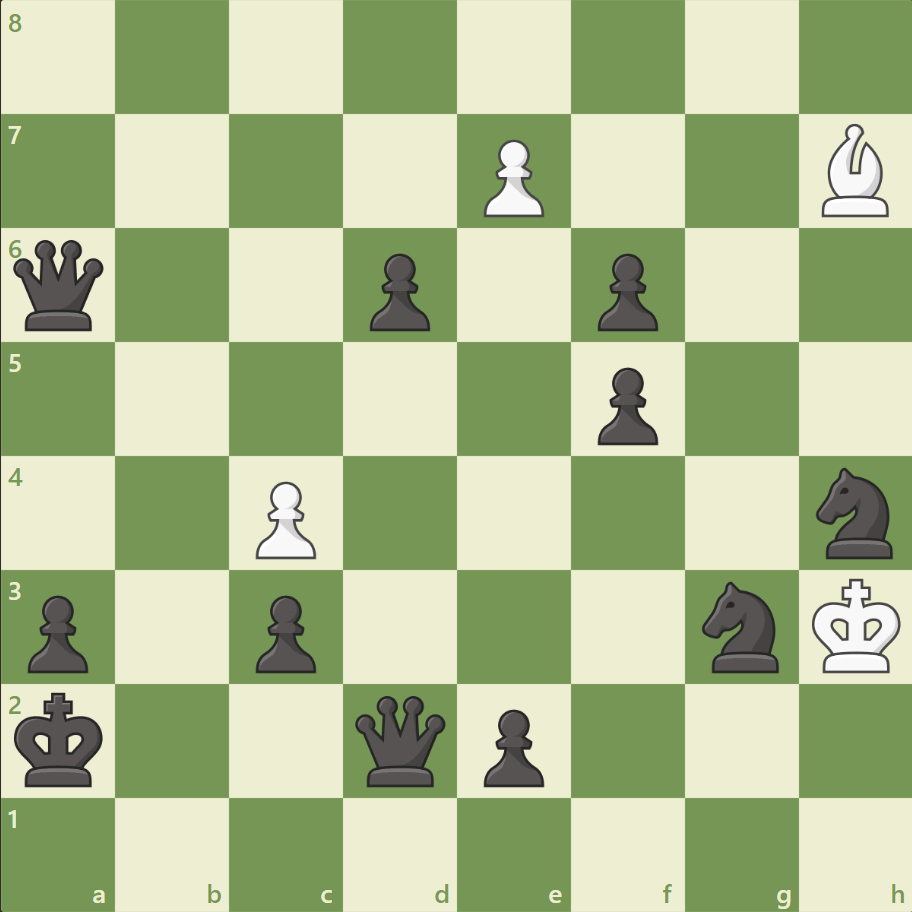B: (812, 120, 896, 222)
K: (806, 571, 906, 679)
P: (474, 132, 549, 223), (247, 473, 322, 564)
k: (11, 685, 111, 793)
n: (806, 461, 903, 564), (692, 575, 789, 677)
p: (20, 586, 95, 677), (247, 586, 322, 677), (474, 700, 549, 791), (361, 246, 435, 337), (588, 246, 662, 337), (588, 359, 662, 450)
q: (10, 236, 109, 335), (351, 690, 450, 789)
